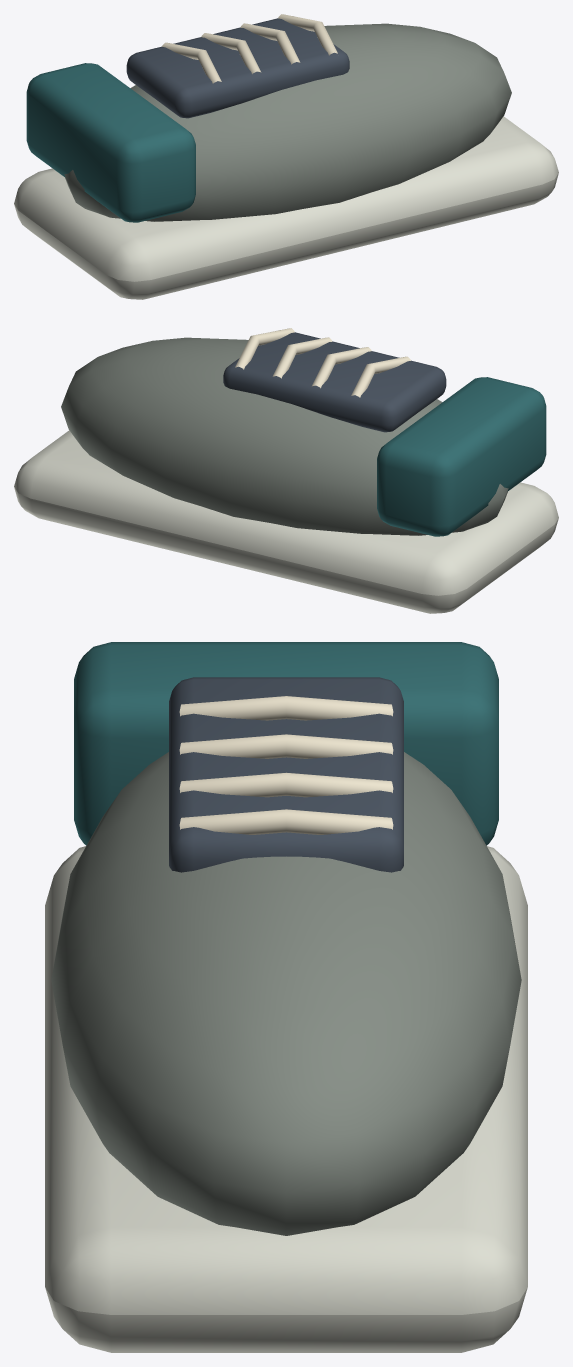
Rendered from SM_Hider_Shoe.glb.
3 renders of one model, top to bottom at view 1: azimuth 30°, elevation 25°; view 2: azimuth 150°, elevation 25°; view 3: azimuth 270°, elevation 25°, orthographic. The views are drawn at different scales.
Visible parts, largest first — view 1: SM_Hider_Shoe; view 2: SM_Hider_Shoe; view 3: SM_Hider_Shoe.
Boxes of the visible parts, <box> form: SM_Hider_Shoe: <box>14,14,558,299</box>; SM_Hider_Shoe: <box>14,328,558,613</box>; SM_Hider_Shoe: <box>45,642,527,1352</box>.
Size of the model in its own units: 0.251 by 0.101 by 0.117.
